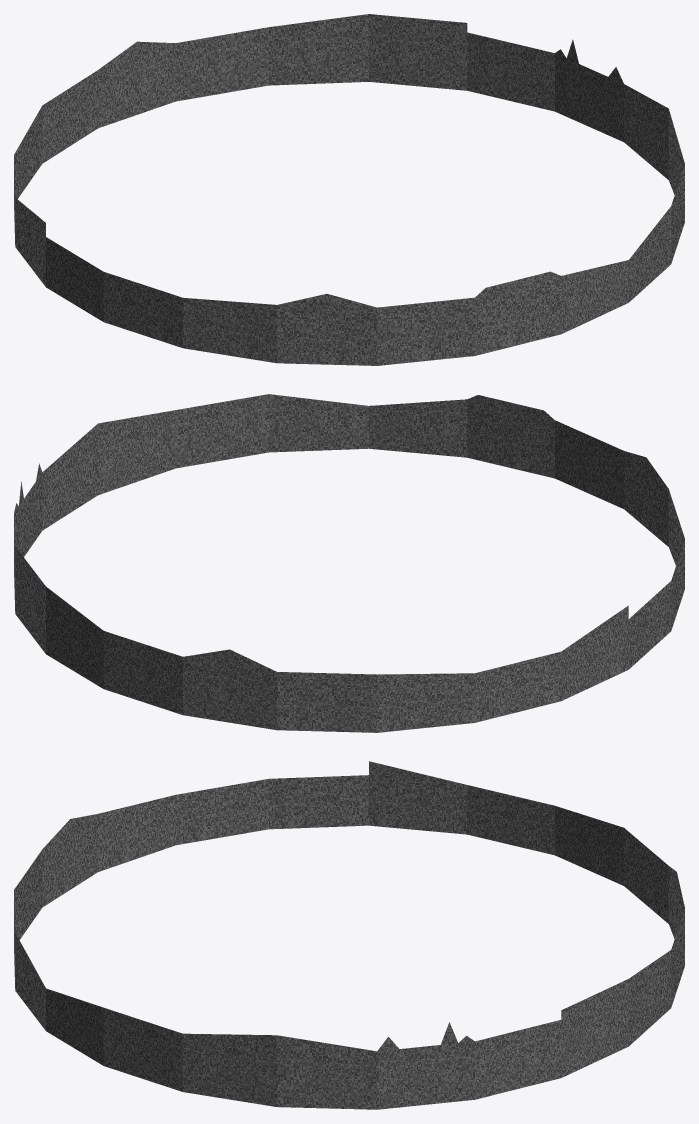
File: landscape_circle_02.gltf
3 renders of one model, top to bottom at view 1: azimuth 30°, elevation 25°; view 2: azimuth 150°, elevation 25°; view 3: azimuth 270°, elevation 25°, orthographic.
Visible parts, largest first — view 1: landscape_circle_02; view 2: landscape_circle_02; view 3: landscape_circle_02.
Part boxes in pixels (x1,y1,x2,y2): landscape_circle_02: (14,14,684,365); landscape_circle_02: (14,394,684,732); landscape_circle_02: (14,761,684,1109).
Size of the model in its own units: 37.6 by 4.97 by 37.53.
Materials: 1 (1 with a texture image).
